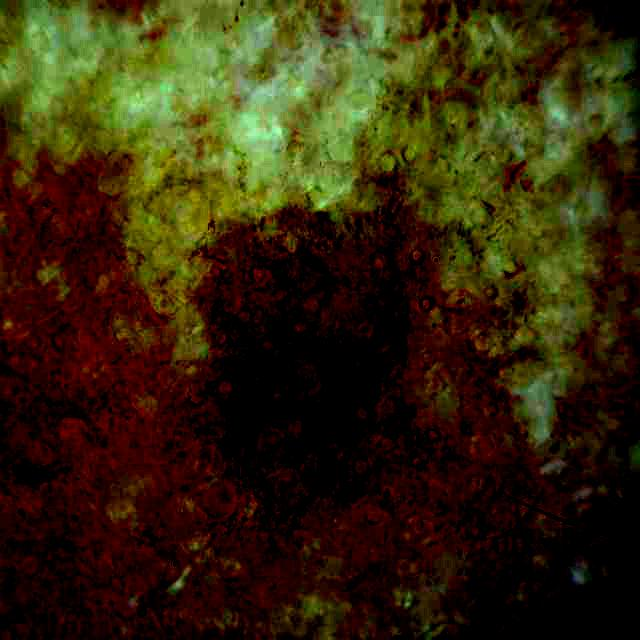AKIEC: (197, 181, 411, 520)
